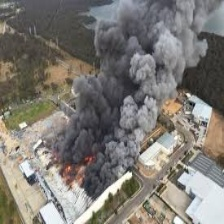smoke: (55, 3, 204, 163)
